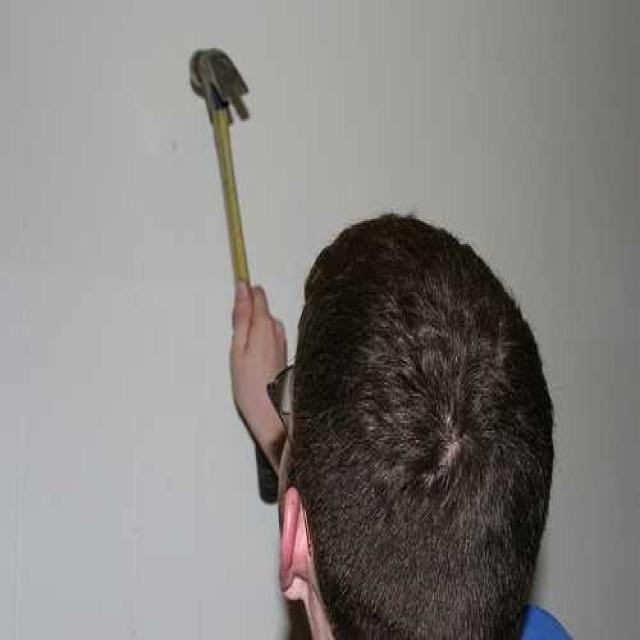hammer: (176, 46, 264, 302)
